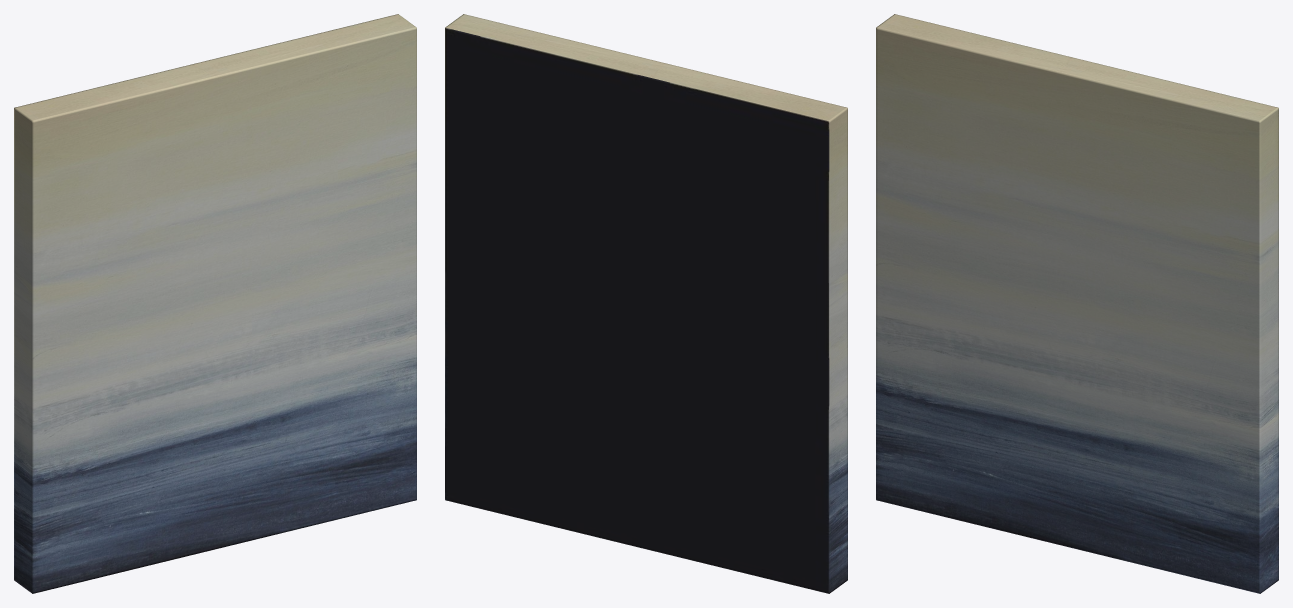
The model's file is B073P13JKT.glb.
3 renders of one model, left to right at view 1: azimuth 30°, elevation 25°; view 2: azimuth 150°, elevation 25°; view 3: azimuth 330°, elevation 25°, orthographic.
Parts seen in each view (by area): view 1: RootNode; view 2: RootNode; view 3: RootNode.
Boxes of the visible parts, x1,y1,x2,y2 form: RootNode: (14,14,416,593); RootNode: (445,14,847,593); RootNode: (876,14,1278,593).
Size of the model in its own units: 0.4347 by 0.5108 by 0.0365.
1 material, 1 textured.
